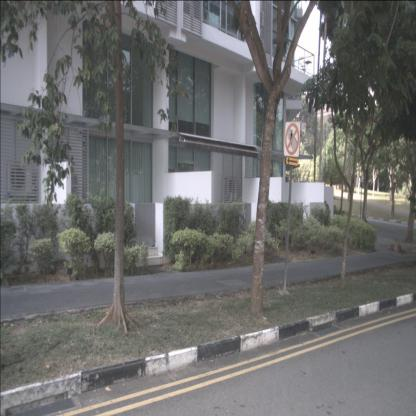human-pedestrian-adult: (324, 200, 330, 228)
